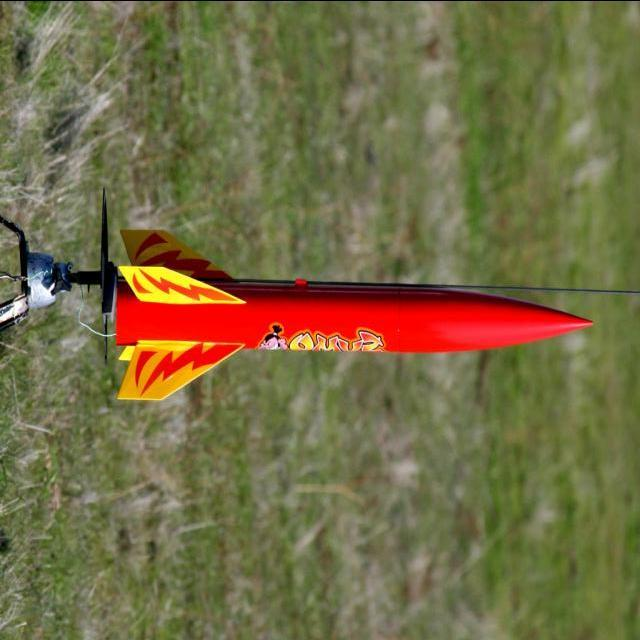Missile: (115, 230, 591, 398), (114, 280, 634, 356)
